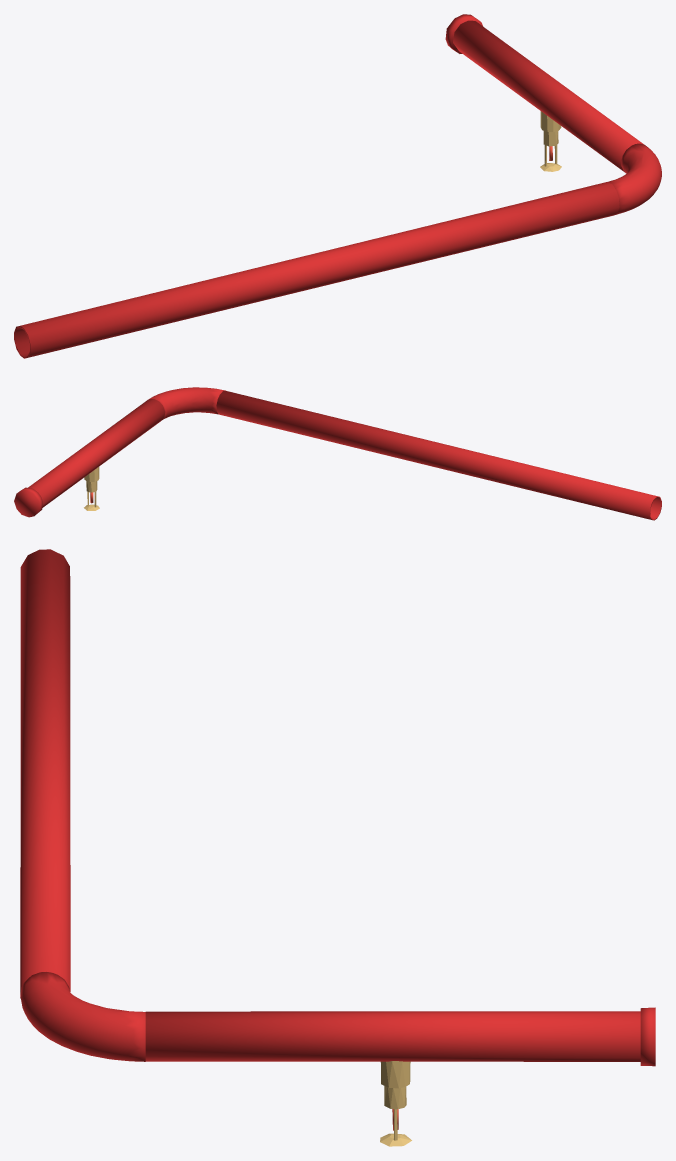
File: sprinkler.fbx
3 renders of one model, top to bottom at view 1: azimuth 30°, elevation 25°; view 2: azimuth 150°, elevation 25°; view 3: azimuth 270°, elevation 25°, orthographic. The views are drawn at different scales.
Visible parts, largest first — view 1: Tubo_Reta.001, Tubo_Reta_Sprinkler.001, Curva_90.001, Sprinkler.001; view 2: Tubo_Reta.001, Tubo_Reta_Sprinkler.001, Curva_90.001, Tampao.001, Sprinkler.001; view 3: Tubo_Reta_Sprinkler.001, Tubo_Reta.001, Curva_90.001, Sprinkler.001, Tampao.001.
Part boxes in pixels (x1,y1,x2,y2): Tubo_Reta.001: (14, 182, 619, 358); Tubo_Reta_Sprinkler.001: (453, 20, 643, 172); Curva_90.001: (608, 143, 661, 214); Sprinkler.001: (540, 111, 561, 171); Tubo_Reta.001: (216, 390, 661, 520); Tubo_Reta_Sprinkler.001: (28, 399, 165, 507); Curva_90.001: (147, 387, 225, 420); Tampao.001: (14, 487, 42, 517); Sprinkler.001: (84, 467, 99, 510); Tubo_Reta_Sprinkler.001: (145, 1011, 640, 1061); Tubo_Reta.001: (20, 549, 70, 998); Curva_90.001: (20, 972, 145, 1061); Sprinkler.001: (380, 1061, 411, 1146); Tampao.001: (640, 1007, 655, 1066).
Size of the model in its own units: 2.26 by 0.2865 by 1.27.
